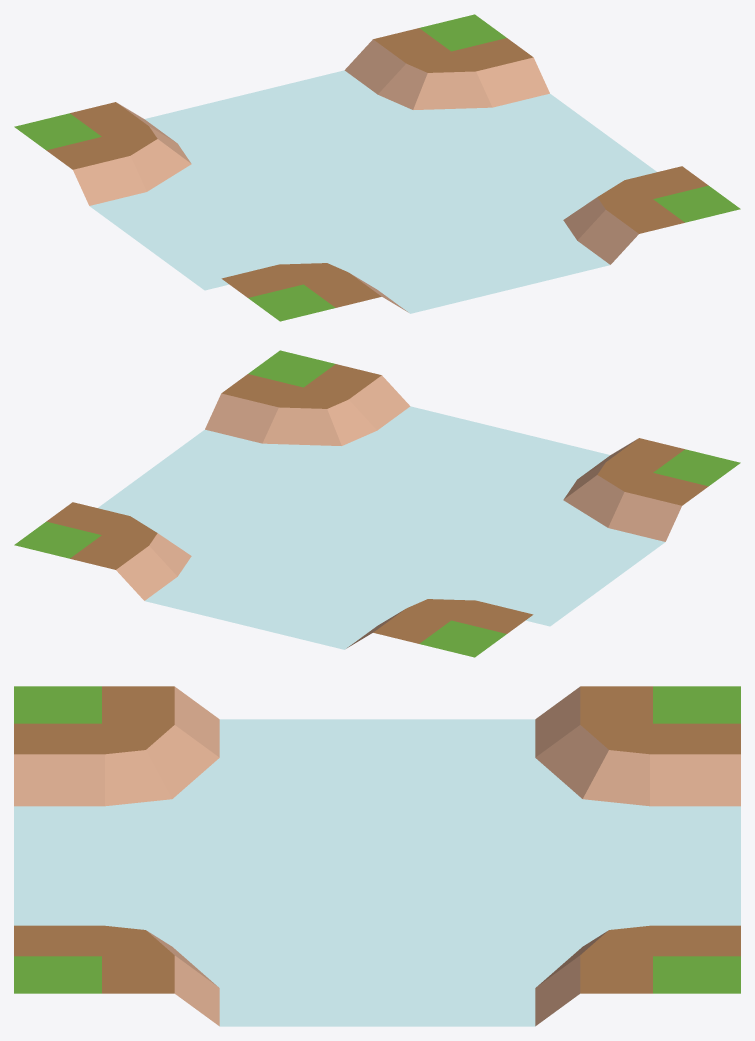
The model's file is ground_riverCross.glb.
3 views of the same model, one above another, from view 1: azimuth 30°, elevation 25°; view 2: azimuth 150°, elevation 25°; view 3: azimuth 270°, elevation 25° (orthographic). The views are drawn at different scales.
Visible parts, largest first — view 1: ground_riverCross; view 2: ground_riverCross; view 3: ground_riverCross.
Boxes of the visible parts, x1,y1,x2,y2 form: ground_riverCross: (14, 14, 740, 321); ground_riverCross: (14, 350, 740, 657); ground_riverCross: (14, 686, 740, 1026).
Size of the model in its own units: 1 by 0.05 by 1.
